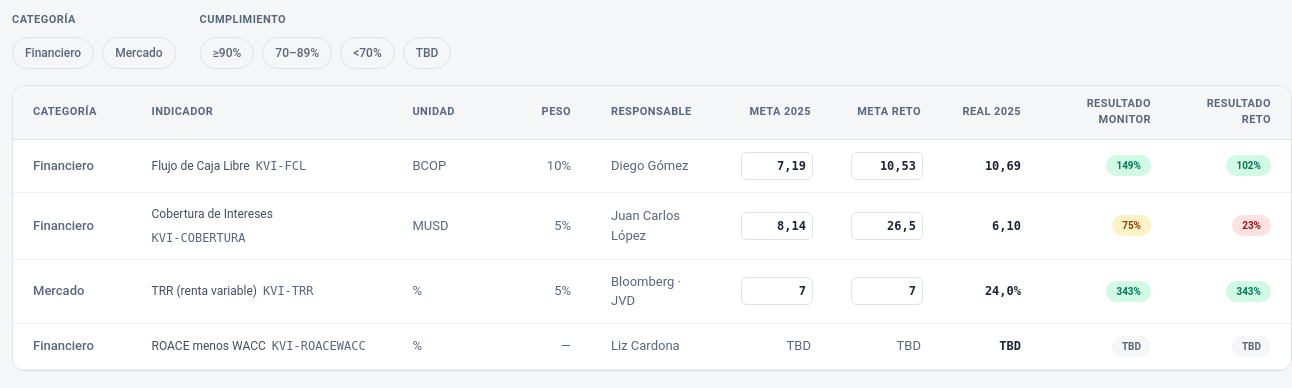
Test: KviTable › filters › filters rows by category, multi-select, none selected = all
Click the button "Mercado".
click(139, 52)  # box [102,36,176,68]
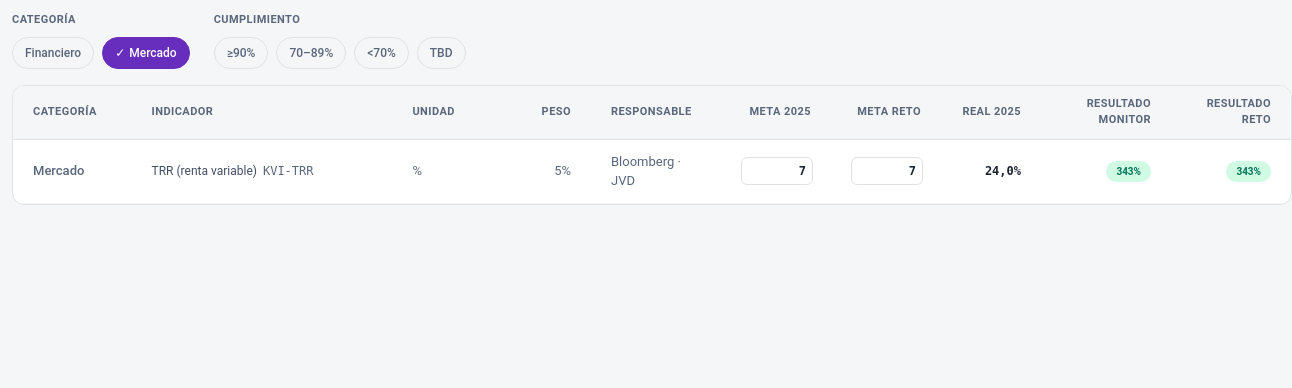
expect the button "TRR (renta variable)" is shown: met, box [152,162,257,180]
expect the button "Flujo de Caja Libre" is gone: met
Click the button "Financiero".
click(53, 52)  # box [12,36,94,68]
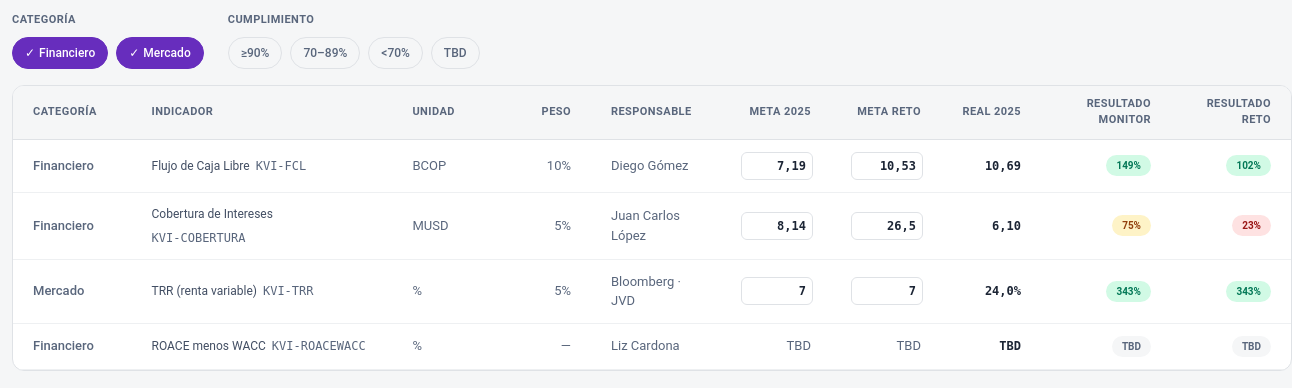
expect the button "TRR (renta variable)" is shown: met, box [152,282,257,300]
expect the button "Flujo de Caja Libre" is shown: met, box [152,156,250,174]
Click the button "✓ Mercado".
click(160, 52)  # box [116,36,204,68]
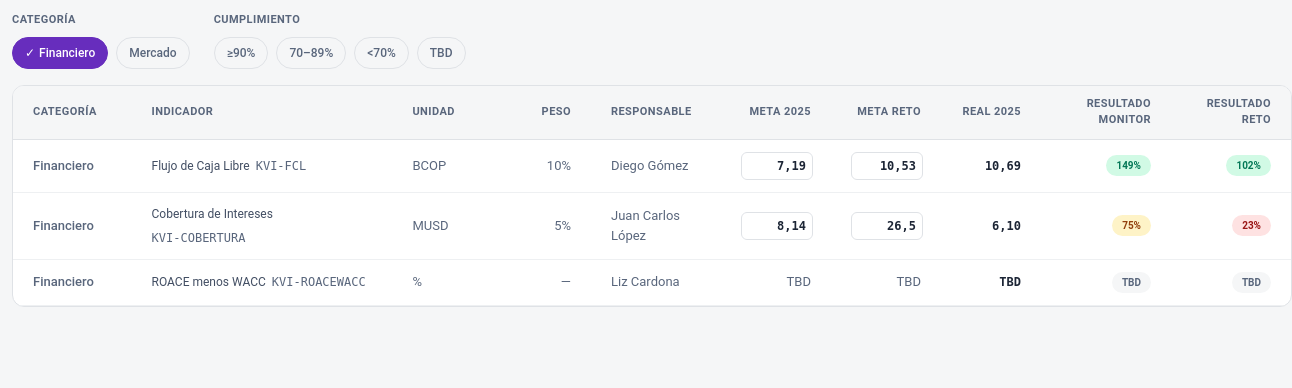
Click the button "✓ Financiero".
click(60, 52)  # box [12,36,108,68]
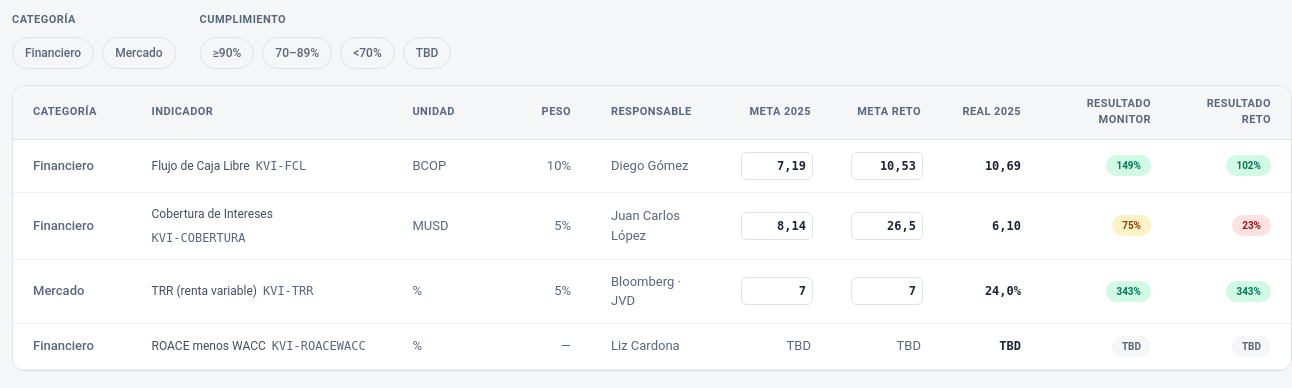
expect the button "TRR (renta variable)" is shown: met, box [152,282,257,300]
